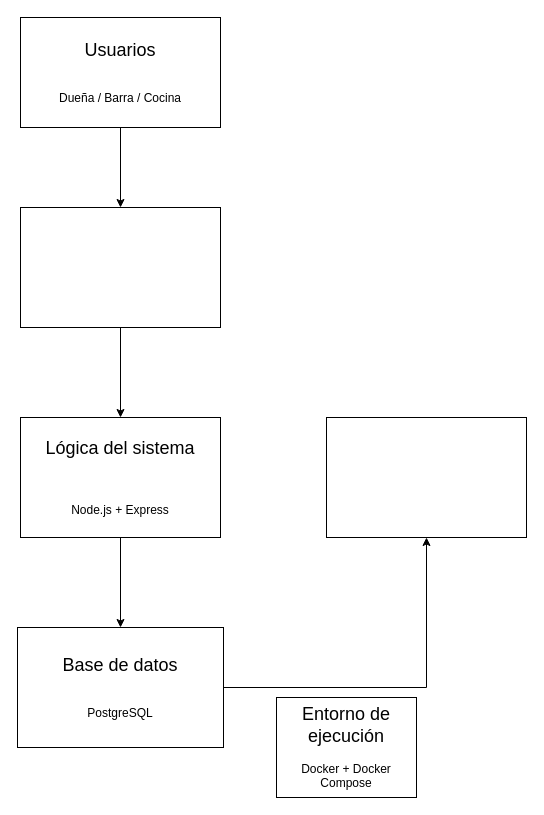
This 544x815 diagram has some shape labels left out. The shapes that lost their labels are listed below. From the top down, each one's centre as x and y in pixels, then its label:
[120,267]: Interfaz web React + Vite
[426,477]: KPI / Reportes Indicadores de inventario
